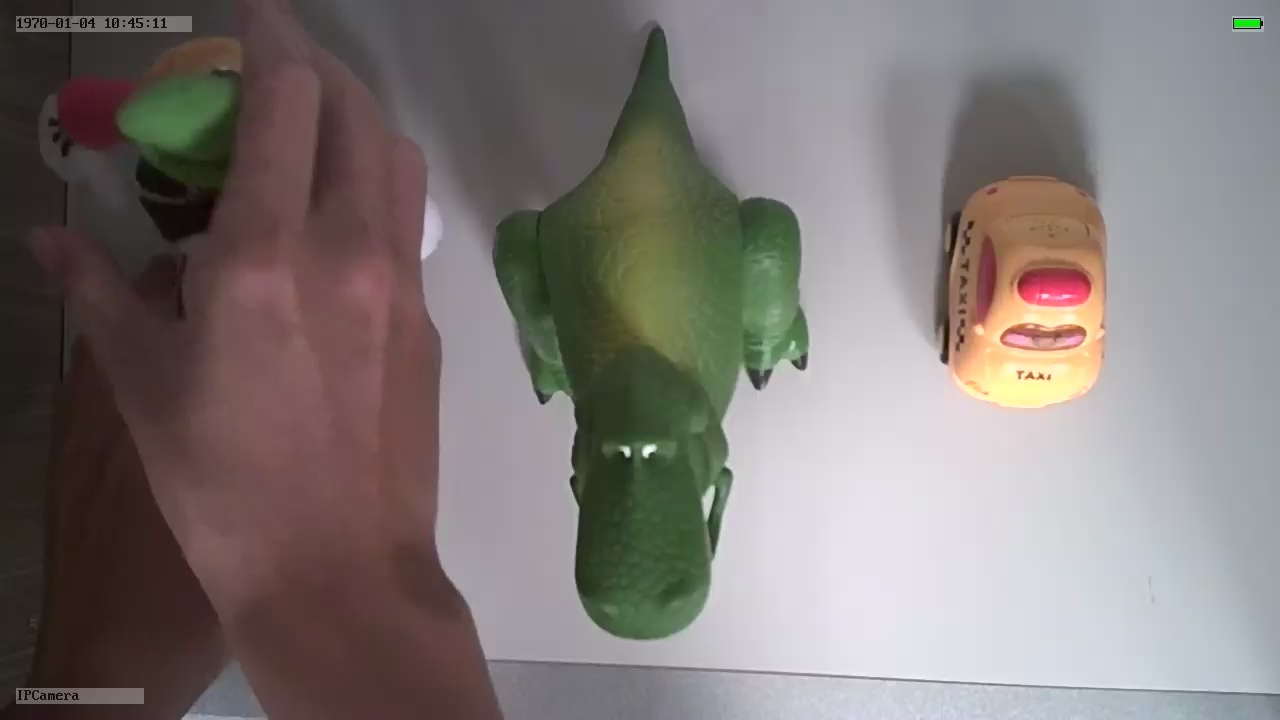car: (937, 169, 1113, 412)
rex: (492, 98, 810, 642)
